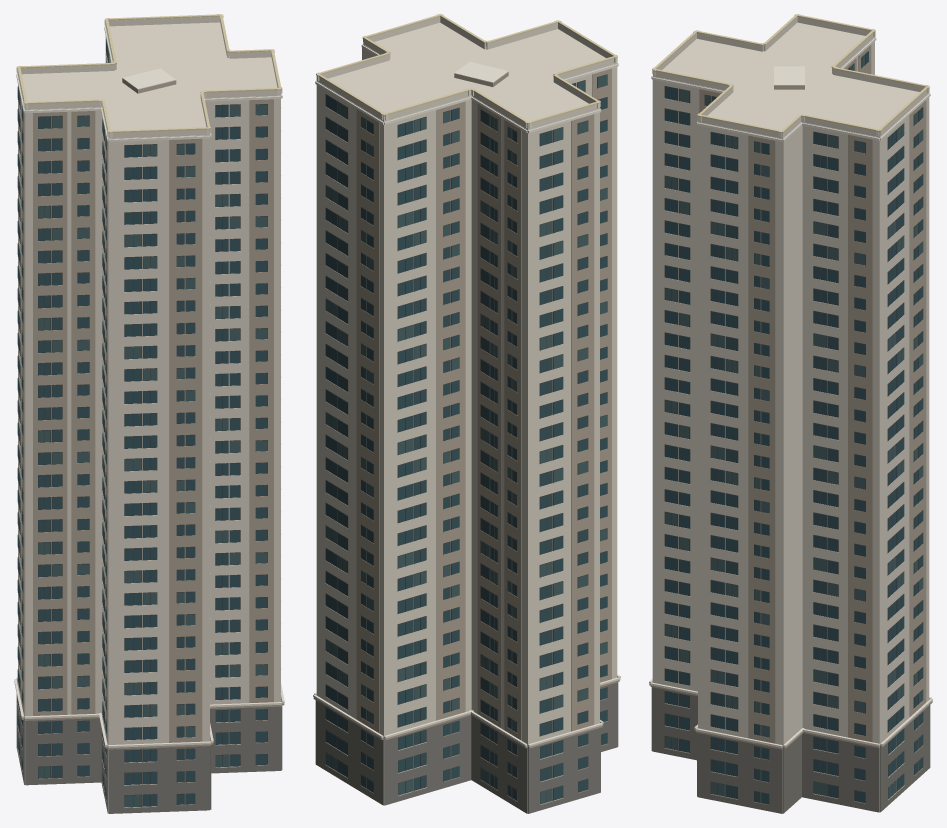
The model's file is bespoke-raemian-prestige-106.glb.
The picture shows the model from 3 angles, left to right: view 1: azimuth 30°, elevation 25°; view 2: azimuth 150°, elevation 25°; view 3: azimuth 270°, elevation 25°; orthographic projection.
Visible parts, largest first — view 1: Prestige_warm_ivory_rendered_wall011, Prestige_wide_taupe_pilasters011, Prestige_recessed_blue_green_window011, Prestige_dark_bronze_thin_window_frame011, Prestige_dark_brown_grey_stone_base011, Prestige_muted_green_window_pair011, Prestige_pale_limestone_band011, Prestige_cream_gold_crown_coping011; view 2: Prestige_warm_ivory_rendered_wall011, Prestige_wide_taupe_pilasters011, Prestige_recessed_blue_green_window011, Prestige_dark_bronze_thin_window_frame011, Prestige_dark_brown_grey_stone_base011, Prestige_muted_green_window_pair011, Prestige_pale_limestone_band011, Prestige_cream_gold_crown_coping011; view 3: Prestige_warm_ivory_rendered_wall011, Prestige_recessed_blue_green_window011, Prestige_wide_taupe_pilasters011, Prestige_dark_bronze_thin_window_frame011, Prestige_dark_brown_grey_stone_base011, Prestige_muted_green_window_pair011, Prestige_pale_limestone_band011, Prestige_cream_gold_crown_coping011.
Boxes of the visible parts, <box> form: Prestige_warm_ivory_rendered_wall011: <box>17,16,281,813</box>; Prestige_wide_taupe_pilasters011: <box>17,60,284,805</box>; Prestige_recessed_blue_green_window011: <box>17,40,267,806</box>; Prestige_dark_bronze_thin_window_frame011: <box>18,39,267,807</box>; Prestige_dark_brown_grey_stone_base011: <box>16,681,282,813</box>; Prestige_muted_green_window_pair011: <box>17,48,267,807</box>; Prestige_pale_limestone_band011: <box>14,17,284,747</box>; Prestige_cream_gold_crown_coping011: <box>16,14,282,133</box>; Prestige_warm_ivory_rendered_wall011: <box>316,17,617,813</box>; Prestige_wide_taupe_pilasters011: <box>313,68,620,801</box>; Prestige_recessed_blue_green_window011: <box>325,83,607,800</box>; Prestige_dark_bronze_thin_window_frame011: <box>325,74,607,804</box>; Prestige_dark_brown_grey_stone_base011: <box>315,682,618,813</box>; Prestige_muted_green_window_pair011: <box>325,75,607,804</box>; Prestige_pale_limestone_band011: <box>313,39,620,746</box>; Prestige_cream_gold_crown_coping011: <box>316,14,617,124</box>; Prestige_warm_ivory_rendered_wall011: <box>652,17,929,813</box>; Prestige_recessed_blue_green_window011: <box>665,51,923,804</box>; Prestige_wide_taupe_pilasters011: <box>649,45,932,805</box>; Prestige_dark_bronze_thin_window_frame011: <box>664,51,923,804</box>; Prestige_dark_brown_grey_stone_base011: <box>651,687,930,813</box>; Prestige_muted_green_window_pair011: <box>665,55,923,798</box>; Prestige_pale_limestone_band011: <box>649,32,932,747</box>; Prestige_cream_gold_crown_coping011: <box>652,14,929,133</box>.
Bounding box in the file's own units: 32.23 × 84.9 × 32.03.
